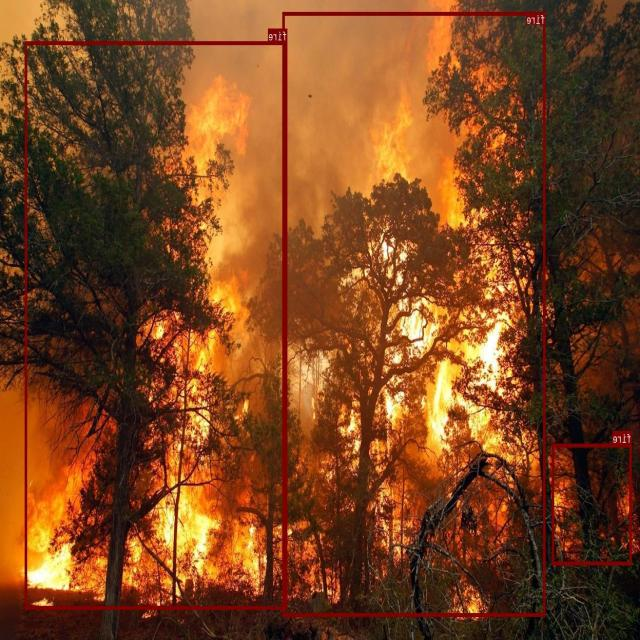fire: (283, 11, 546, 616), (26, 41, 288, 609), (552, 443, 632, 565)
